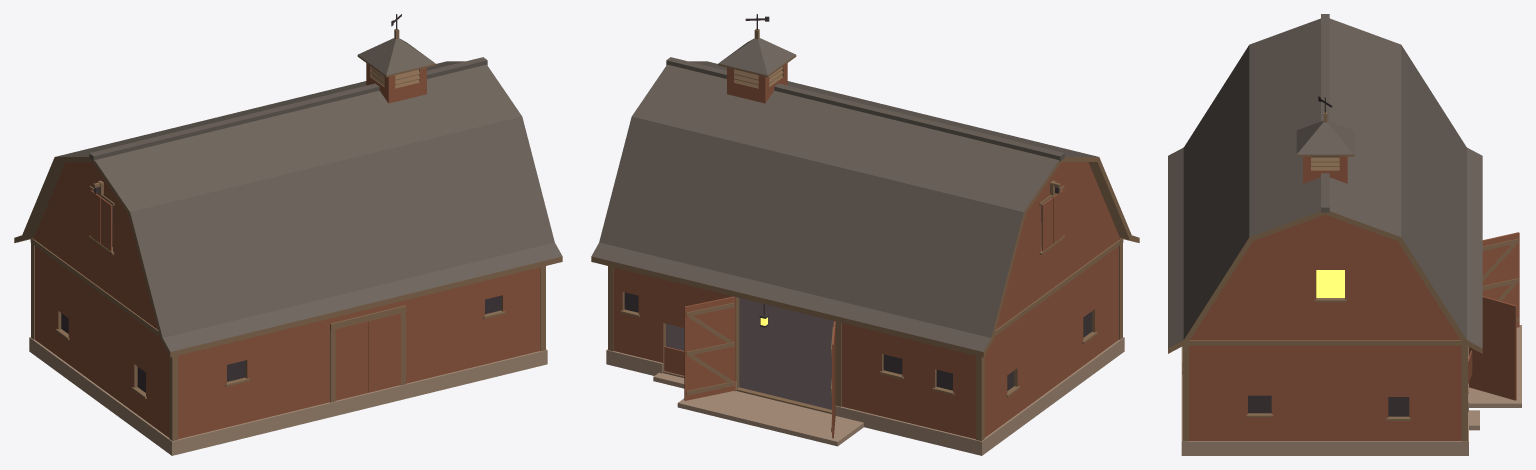
Rendered from barn.glb.
3 views of the same model, side by side, from view 1: azimuth 30°, elevation 25°; view 2: azimuth 150°, elevation 25°; view 3: azimuth 270°, elevation 25° (orthographic).
Visible parts, largest first — view 1: Mesh_Roof, Mesh_Walls, Mesh_Plinth, Mesh_NorthDoors, Mesh_Barge, Mesh_Trim, Mesh_CupolaCap, Mesh_NorthDoorFrame, Mesh_Cupola, Mesh_Glass, Mesh_Soffit, Mesh_HayDoorNorth_Boards; view 2: Mesh_Roof, Mesh_Walls, Mesh_Interior, Mesh_Plinth, Mesh_Apron, Mesh_CartDoorEast_Boards, Mesh_Barge, Mesh_Trim, Mesh_CupolaCap, Mesh_DoorFrames, Mesh_Glass, Mesh_CartDoorEast_Ledges (+3 smaller); view 3: Mesh_Roof, Mesh_Walls, Mesh_Plinth, Mesh_CartDoorEast_Boards, Mesh_Trim, Mesh_Barge, Mesh_CartDoorWest_Boards, Mesh_CupolaCap, Mesh_Apron, Mesh_Glass, Mesh_LoftLamp, Mesh_CartDoorWest_Ledges (+2 smaller).
Part boxes in pixels (x1,y1,x2,y2): Mesh_Roof: [55, 57, 562, 351]; Mesh_Walls: [33, 162, 540, 439]; Mesh_Plinth: [29, 337, 547, 455]; Mesh_NorthDoors: [335, 313, 400, 400]; Mesh_Barge: [14, 157, 562, 357]; Mesh_Trim: [30, 238, 545, 440]; Mesh_CupolaCap: [358, 38, 435, 75]; Mesh_NorthDoorFrame: [330, 305, 406, 402]; Mesh_Cupola: [366, 63, 426, 103]; Mesh_Glass: [61, 295, 501, 392]; Mesh_Soffit: [17, 162, 65, 242]; Mesh_HayDoorNorth_Boards: [101, 198, 112, 251]; Mesh_Roof: [591, 57, 1098, 351]; Mesh_Walls: [613, 162, 1120, 439]; Mesh_Interior: [666, 298, 833, 409]; Mesh_Plinth: [606, 337, 1124, 455]; Mesh_Apron: [653, 373, 863, 446]; Mesh_CartDoorEast_Boards: [684, 296, 735, 400]; Mesh_Barge: [591, 157, 1139, 357]; Mesh_Trim: [608, 238, 1123, 440]; Mesh_CupolaCap: [718, 38, 795, 75]; Mesh_DoorFrames: [663, 296, 841, 414]; Mesh_Glass: [624, 292, 1091, 390]; Mesh_CartDoorEast_Ledges: [686, 302, 734, 395]; Mesh_Roof: [1168, 14, 1482, 348]; Mesh_Walls: [1189, 214, 1461, 440]; Mesh_Plinth: [1181, 346, 1468, 455]; Mesh_CartDoorEast_Boards: [1468, 296, 1516, 400]; Mesh_Trim: [1182, 298, 1467, 441]; Mesh_Barge: [1168, 211, 1482, 353]; Mesh_CartDoorWest_Boards: [1482, 232, 1519, 327]; Mesh_CupolaCap: [1296, 120, 1354, 154]; Mesh_Apron: [1468, 325, 1521, 430]; Mesh_Glass: [1248, 395, 1409, 416]; Mesh_LoftLamp: [1316, 270, 1344, 297]; Mesh_CartDoorWest_Ledges: [1482, 238, 1518, 322].
Bounding box in the file's own units: 17.48 × 13.45 × 13.5.
